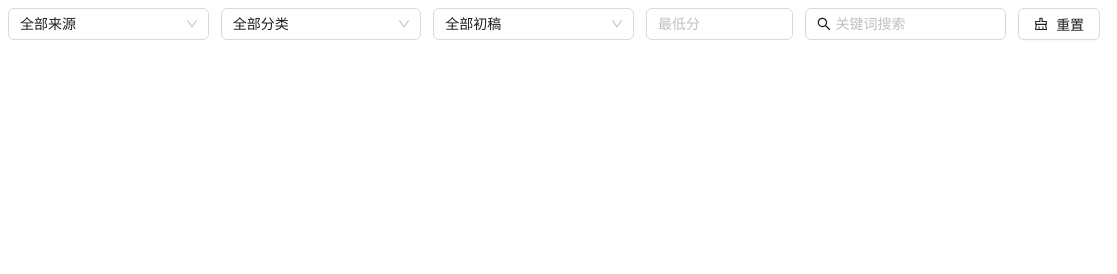
FilterBar › offers user upload as a source filter
Press the mouse on the text "全部来源" at (48, 24), box x1=20 y1=15 x2=76 y2=32
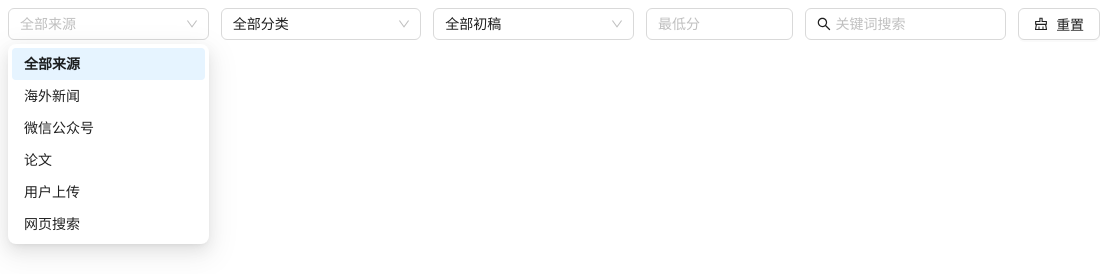
Now the text "用户上传" is shown, box x1=24 y1=183 x2=80 y2=200
